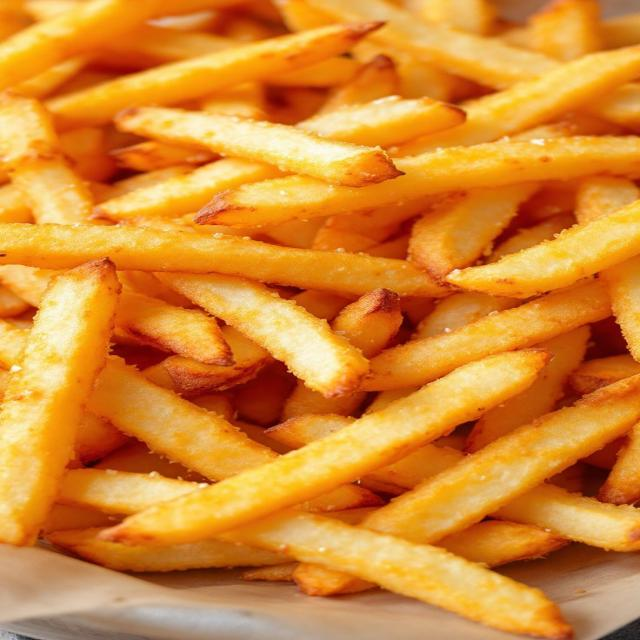potato fries: (0, 0, 639, 639), (101, 350, 547, 545), (198, 137, 639, 226), (47, 22, 380, 126), (0, 261, 119, 544), (0, 224, 446, 296), (362, 282, 610, 390), (394, 48, 639, 155), (160, 274, 367, 397), (116, 107, 401, 186), (0, 0, 233, 88), (447, 202, 639, 297), (467, 326, 589, 452), (0, 93, 93, 224)
